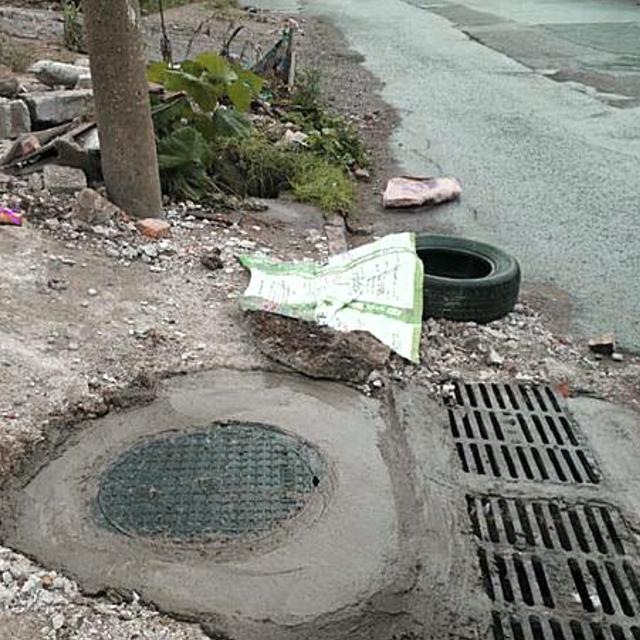good: (0, 365, 454, 640), (428, 374, 640, 640)
